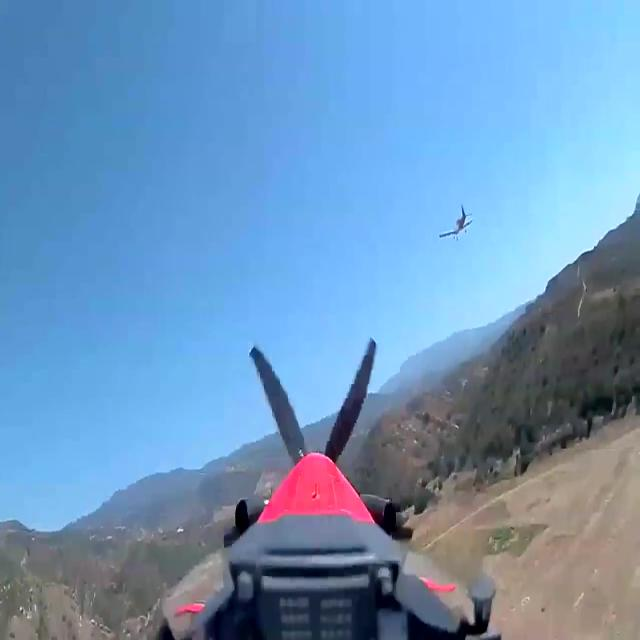iha: (432, 204, 468, 242)
